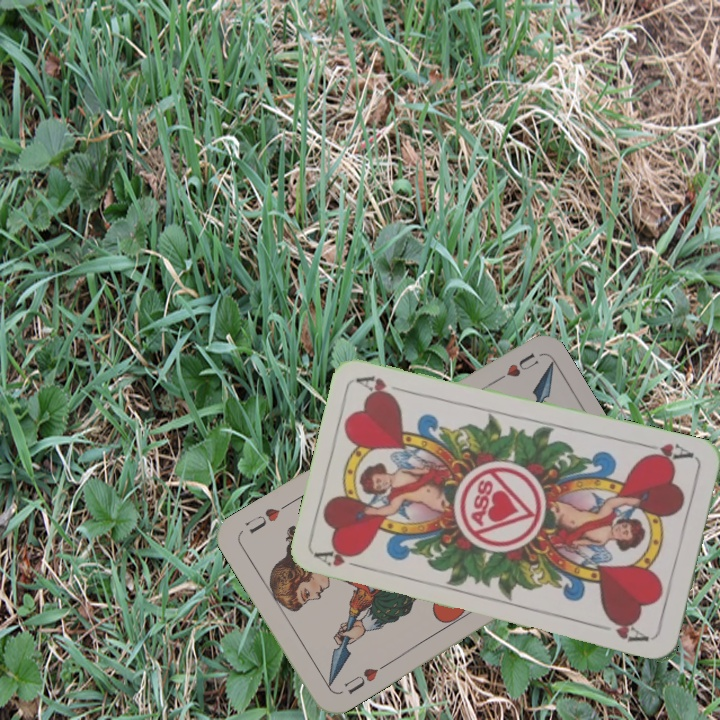HA: (639, 439, 697, 467), (313, 546, 372, 573)
HU: (487, 349, 541, 388), (340, 660, 389, 697)
